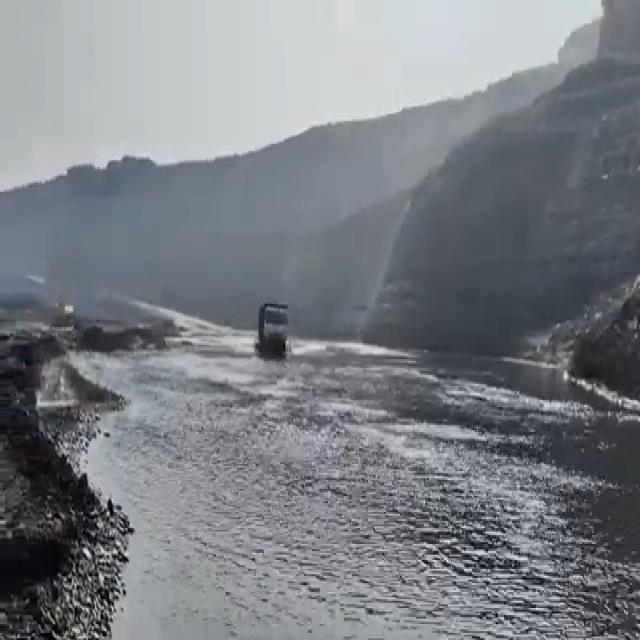dump_truck: (257, 303, 291, 356)
